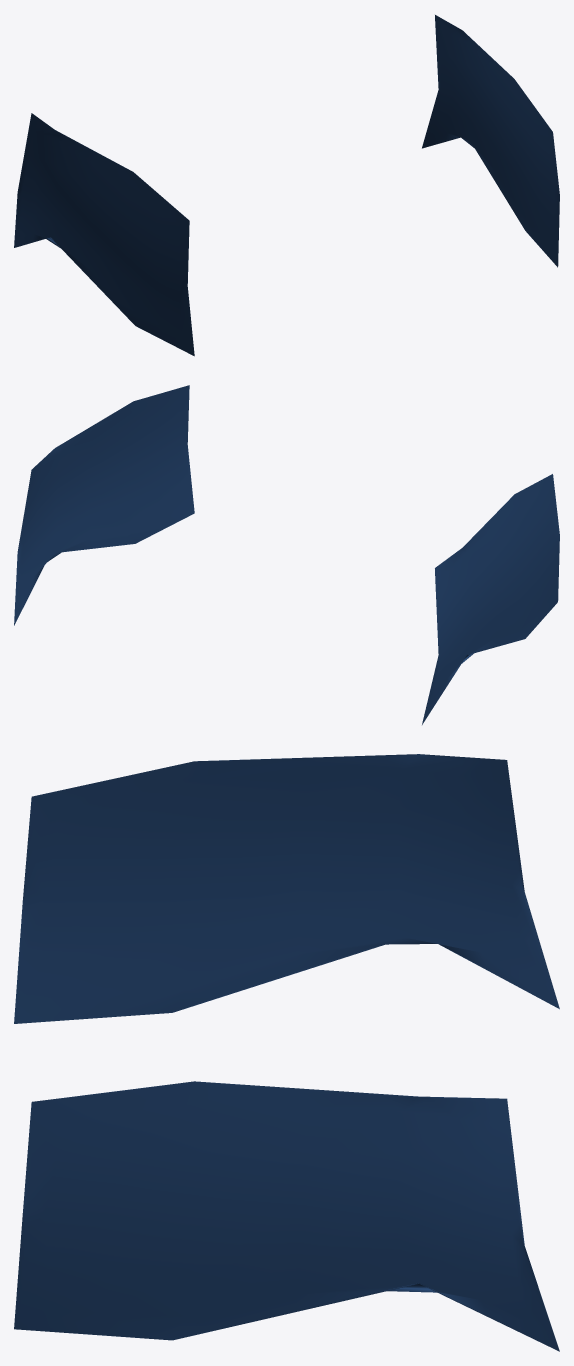
Rendered from GEO_QuarterPanel_Rear.glb.
The picture shows the model from 3 angles, top to bottom: view 1: azimuth 30°, elevation 25°; view 2: azimuth 150°, elevation 25°; view 3: azimuth 270°, elevation 25°; orthographic projection. The views are drawn at different scales.
Parts seen in each view (by area): view 1: GEO_QuarterPanel_Rear; view 2: GEO_QuarterPanel_Rear; view 3: GEO_QuarterPanel_Rear.
Part boxes in pixels (x1,y1,x2,y2): GEO_QuarterPanel_Rear: (14,15,559,356); GEO_QuarterPanel_Rear: (14,385,559,724); GEO_QuarterPanel_Rear: (14,754,559,1351).
Size of the model in its own units: 1.9 by 0.6498 by 1.24.
